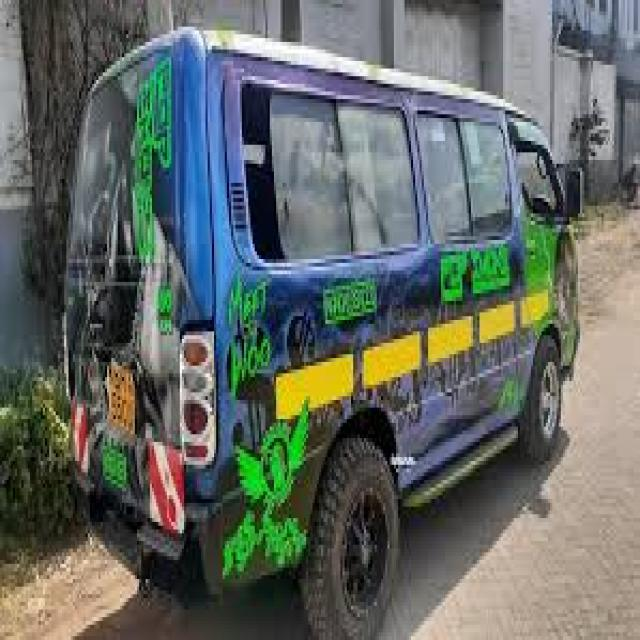matatu: (47, 7, 625, 640)
